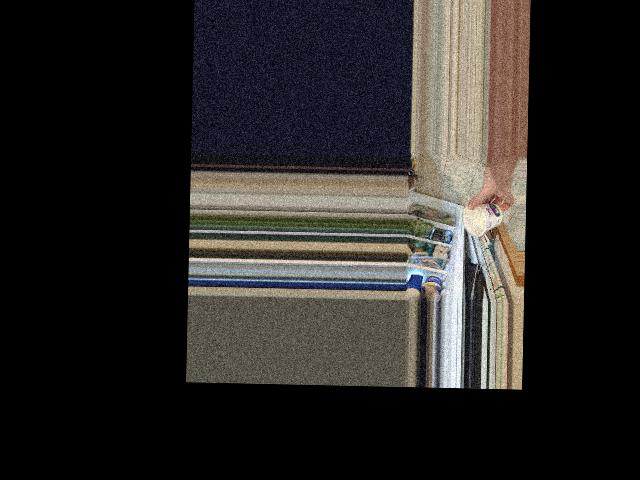cotage: (464, 202, 501, 241)
